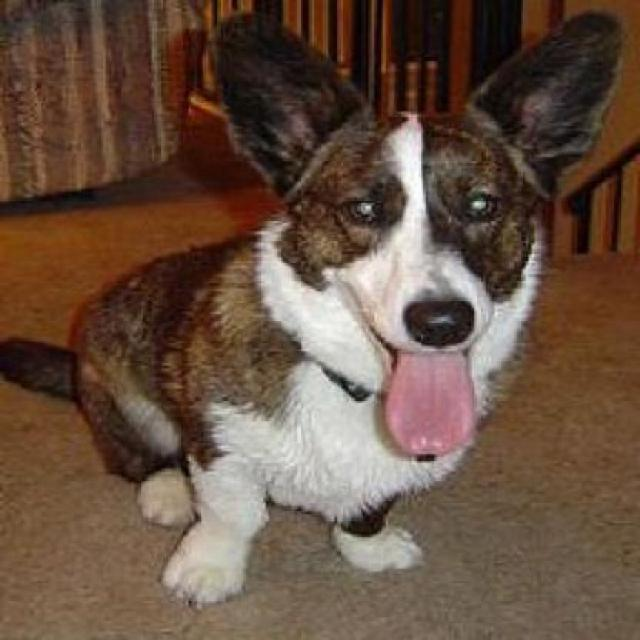Dog: (3, 11, 626, 600)
